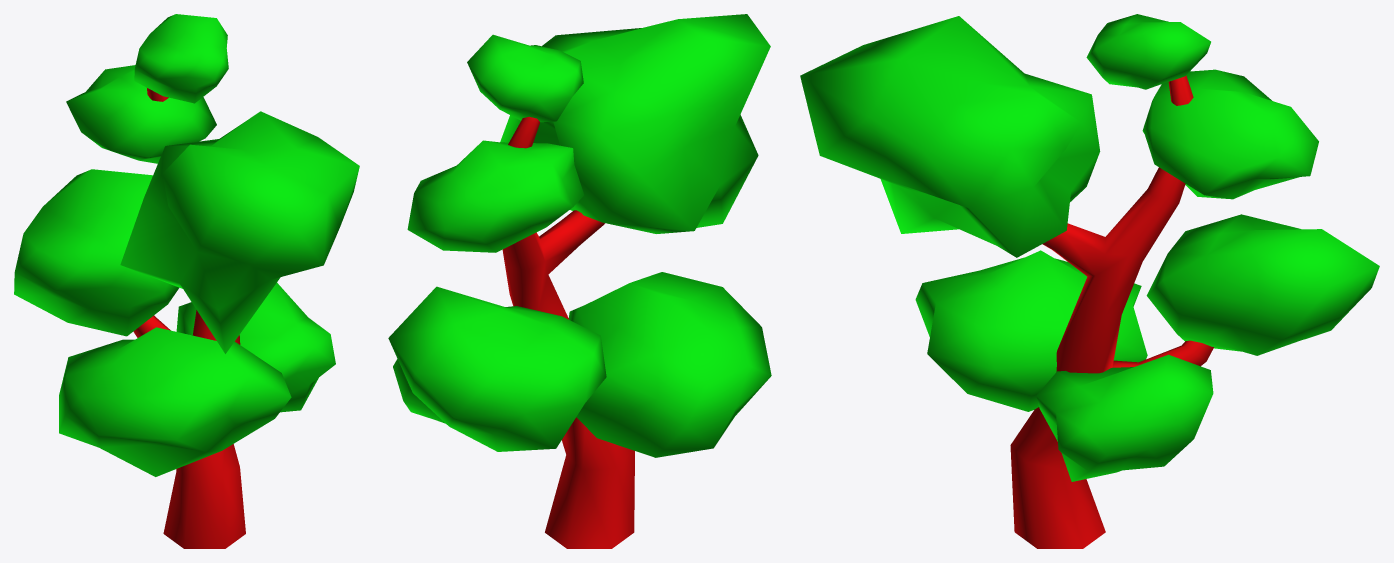
File: Tree_01.fbx
3 views of the same model, side by side, from view 1: azimuth 30°, elevation 25°; view 2: azimuth 150°, elevation 25°; view 3: azimuth 270°, elevation 25° (orthographic). The views are drawn at different scales.
Visible parts, largest first — view 1: mesh_Tree_01; view 2: mesh_Tree_01; view 3: mesh_Tree_01.
Part boxes in pixels (x1,y1,x2,y2): mesh_Tree_01: [14, 14, 359, 548]; mesh_Tree_01: [388, 14, 771, 548]; mesh_Tree_01: [800, 14, 1379, 548].
Size of the model in its own units: 305 by 497 by 497.
